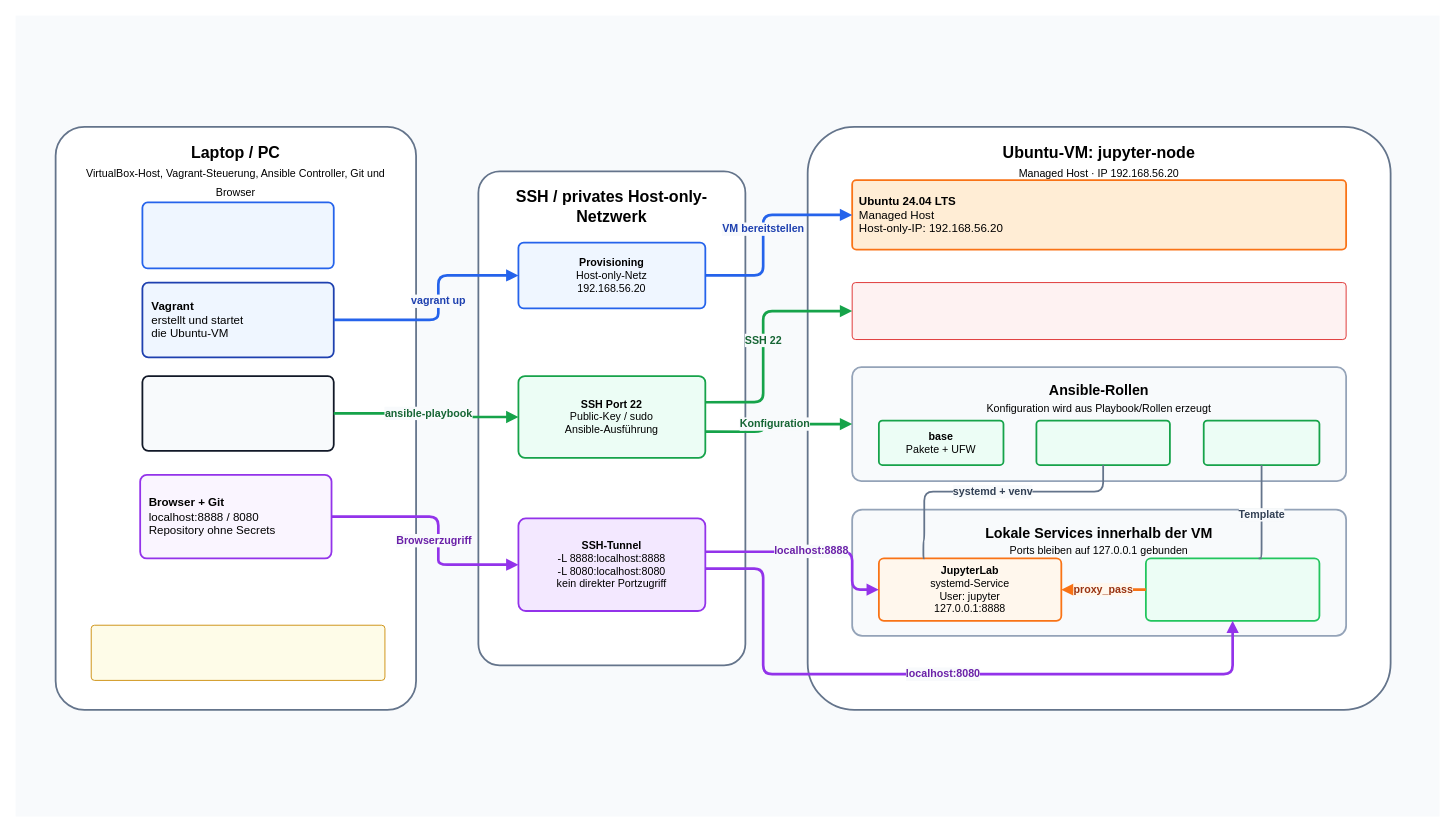
This 1454x831 diagram has some shape labels left out. Each missing label, with the centre of its shape:
"Ansible Controller Inventory, Playbook, Variablen und Rollen" goes at (x=237, y=413).
"Git-Schutz .gitignore schliesst private Keys, Tokens, .env und .vagrant/ aus" goes at (x=237, y=652).
"jupyterlab User + venv + systemd" goes at (x=1102, y=442).
"Nginx lokaler Reverse Proxy 127.0.0.1:8080 proxy_pass zu JupyterLab" goes at (x=1232, y=589).
"nginx_proxy Template + Proxy" goes at (x=1261, y=442).
"UFW Firewall erlaubt SSH · keine Freigabe für 8888 / 8080" goes at (x=1098, y=311).
"VirtualBox lokaler VM-Provider" goes at (x=237, y=235).
